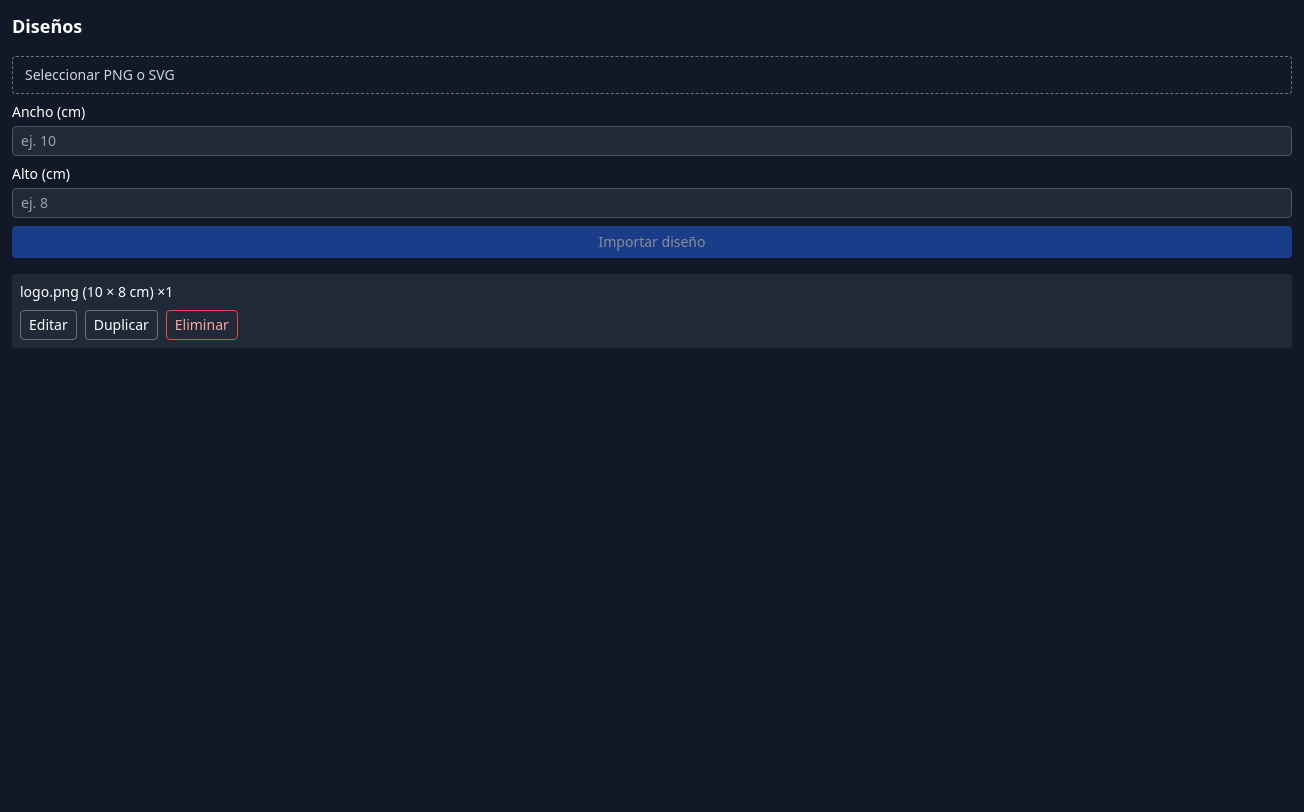
Test: DesignList editing UI › shows Spanish validation feedback when requested dimensions are fractional
The width and height of the screenshot is (1304, 812).
Click the button with aria-label "editar logo.png".
click(48, 325)  # box top-left (20, 310), bottom-right (77, 340)
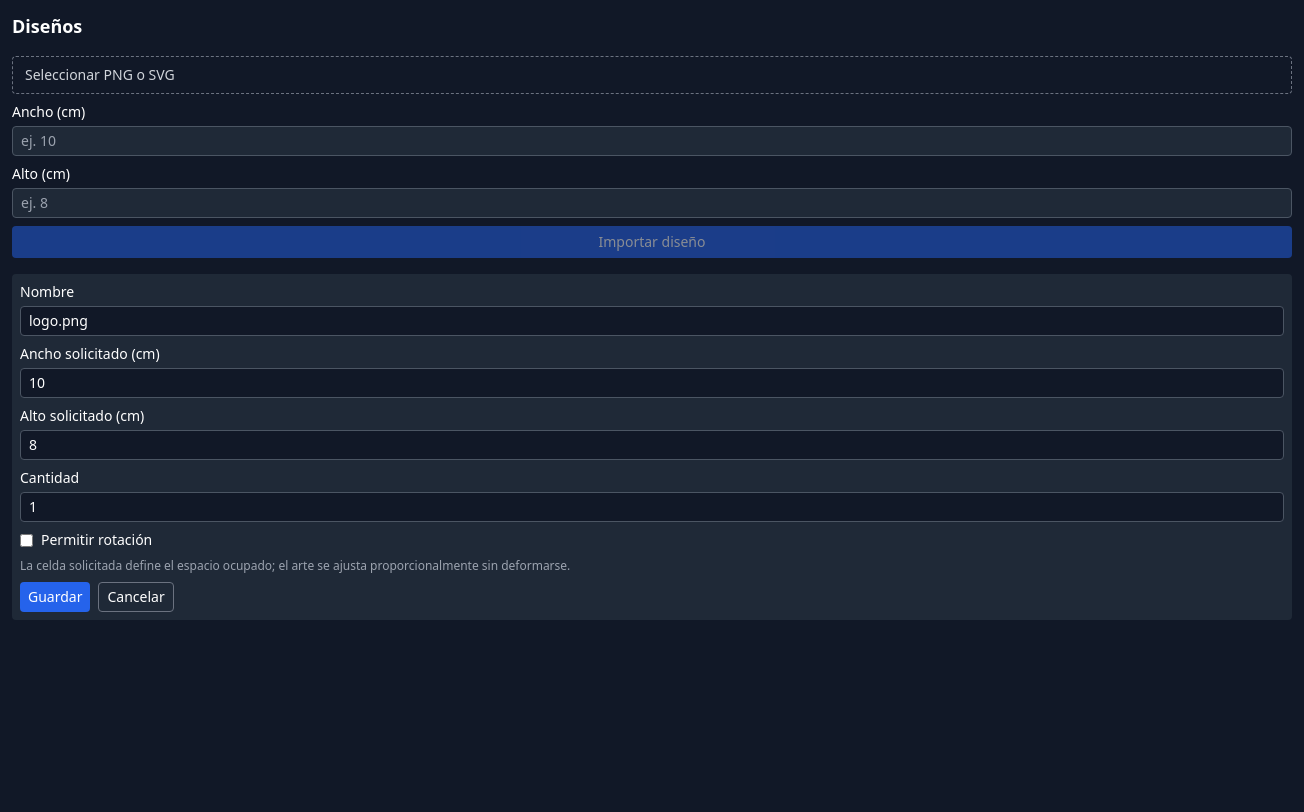
Replace the text in the number field labelled "Ancho solicitado (cm)" with "10.5" at (652,383), box top-left (20, 368), bottom-right (1284, 398)
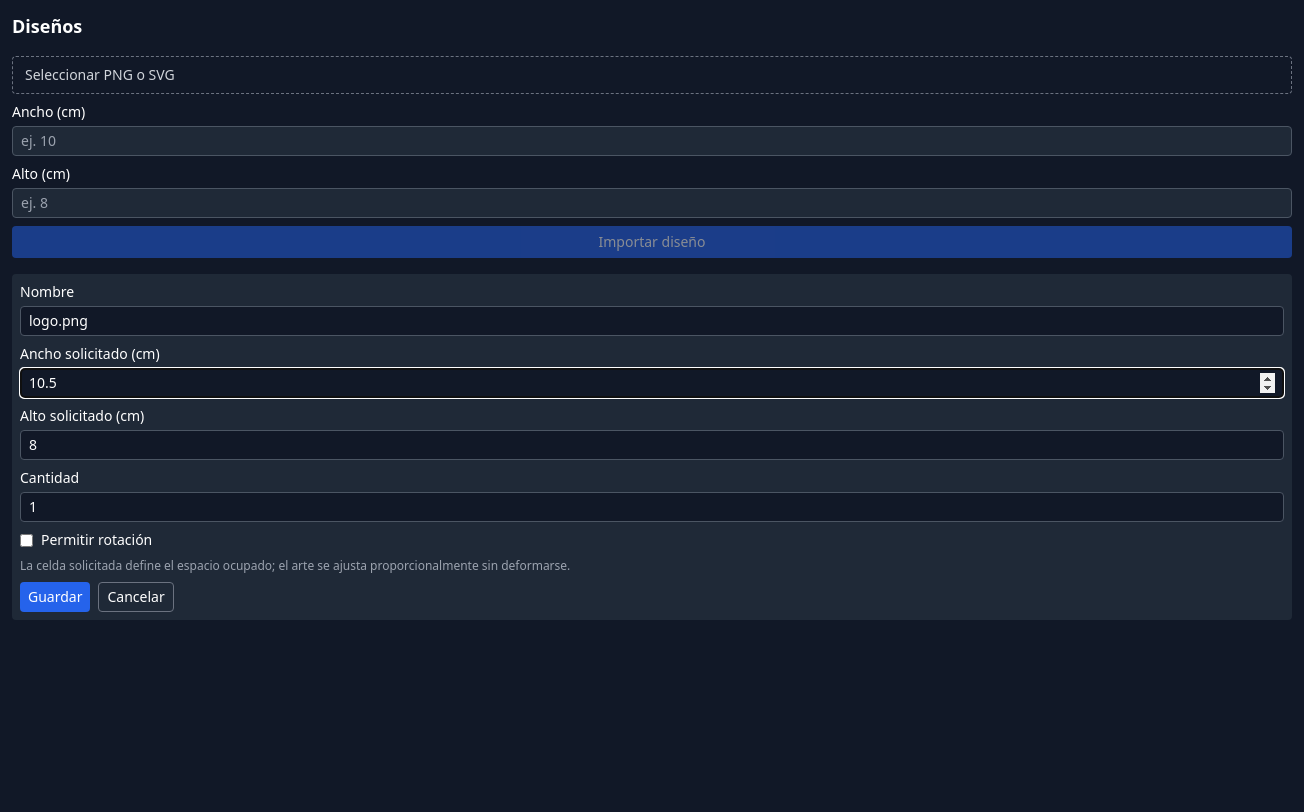
Click the button with aria-label "guardar cambios".
click(55, 597)  # box top-left (20, 582), bottom-right (90, 612)
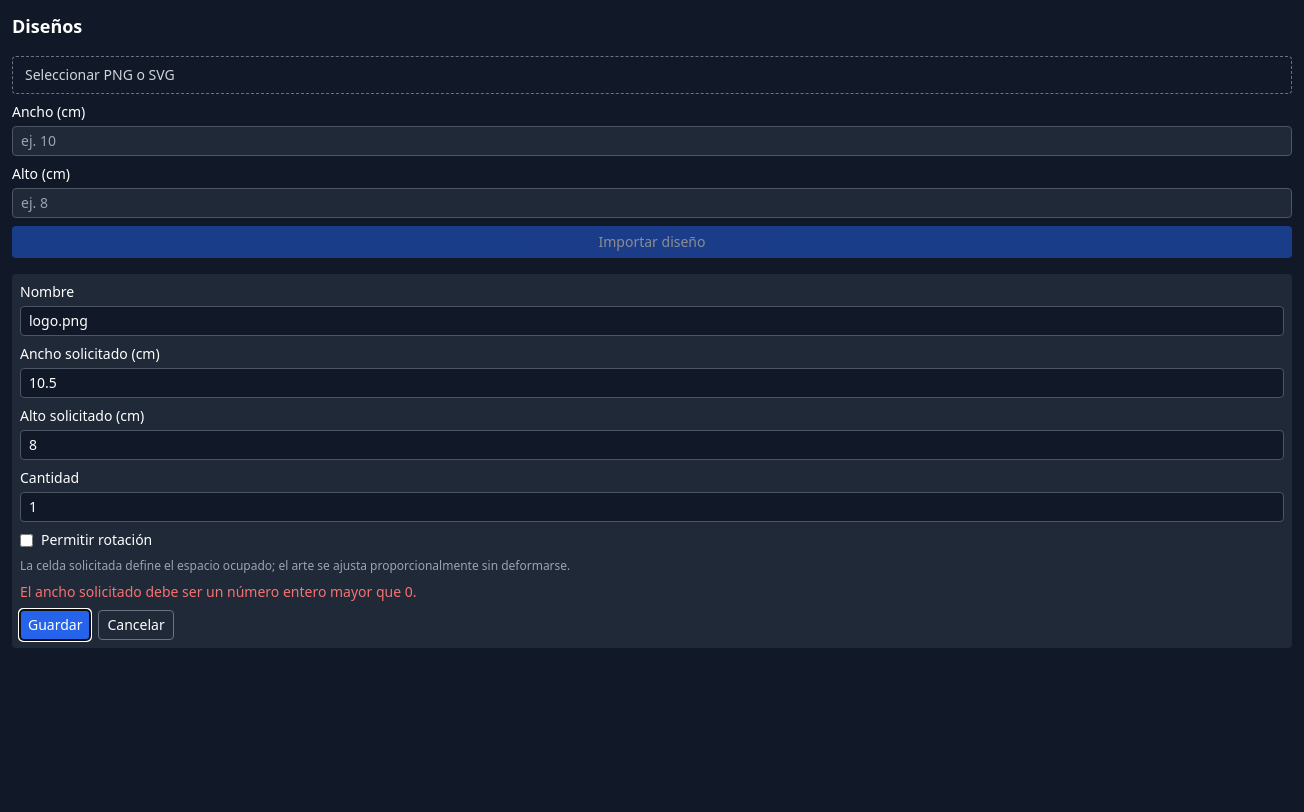
Expected: the message reads "El ancho solicitado debe ser un número entero mayor que 0.", top-left (20, 582), bottom-right (417, 601)
